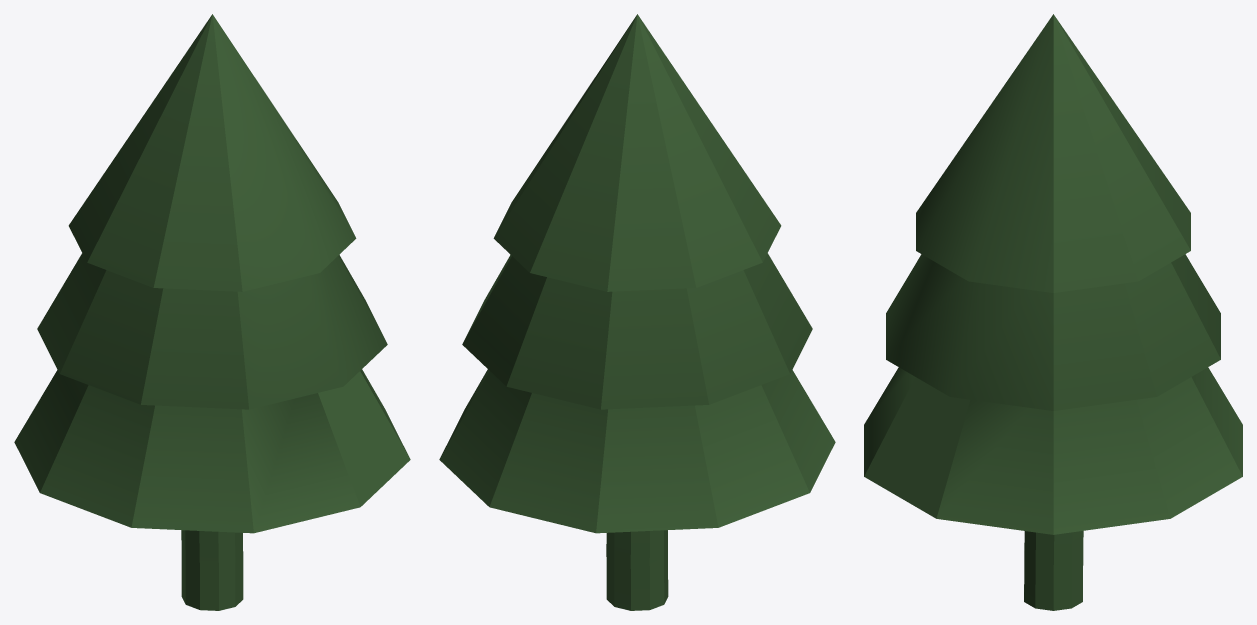
File: tree1_small.fbx
3 views of the same model, side by side, from view 1: azimuth 30°, elevation 25°; view 2: azimuth 150°, elevation 25°; view 3: azimuth 270°, elevation 25° (orthographic).
Visible parts, largest first — view 1: pCylinder1; view 2: pCylinder1; view 3: pCylinder1.
Part boxes in pixels (left/top/right/bottom): pCylinder1: left=14, top=14, right=410, bottom=610; pCylinder1: left=439, top=14, right=835, bottom=610; pCylinder1: left=864, top=14, right=1242, bottom=610.
Size of the model in its own units: 9.04 by 14.61 by 8.59.
